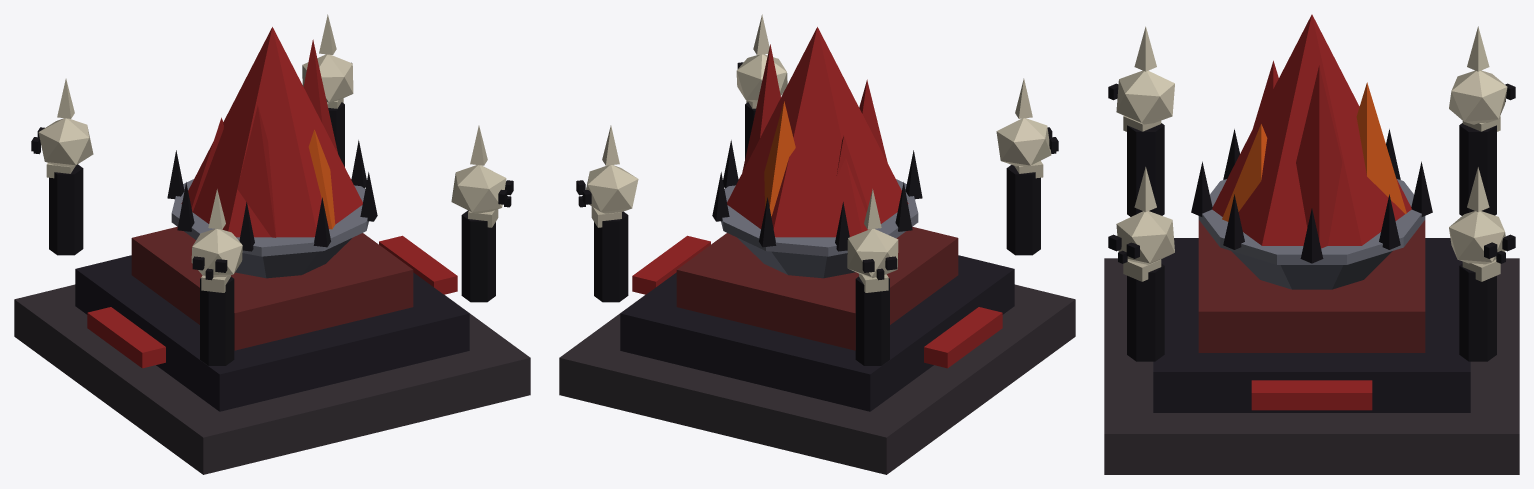
Rendered from Decor_HellGate_FireAltar.fbx.
3 views of the same model, side by side, from view 1: azimuth 30°, elevation 25°; view 2: azimuth 150°, elevation 25°; view 3: azimuth 270°, elevation 25° (orthographic). The views are drawn at different scales.
Parts seen in each view (by area): view 1: FireAltar_Body; view 2: FireAltar_Body; view 3: FireAltar_Body.
Part boxes in pixels (x1,y1,x2,y2): FireAltar_Body: [14, 14, 530, 474]; FireAltar_Body: [559, 14, 1075, 474]; FireAltar_Body: [1104, 14, 1519, 474].
Size of the model in its own units: 11 by 10.9 by 11.
